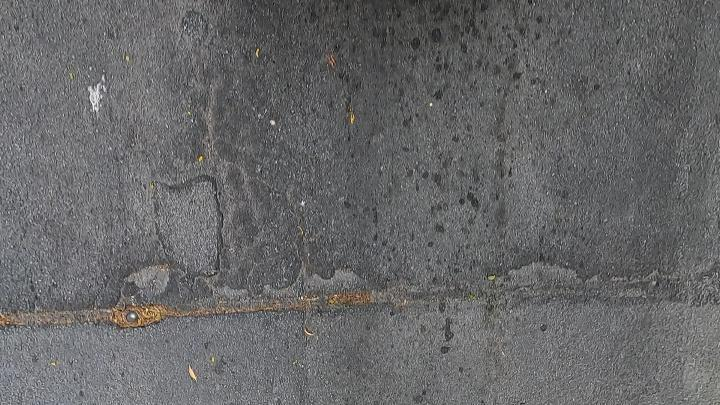Crack: (0, 261, 718, 331), (0, 265, 719, 328)
